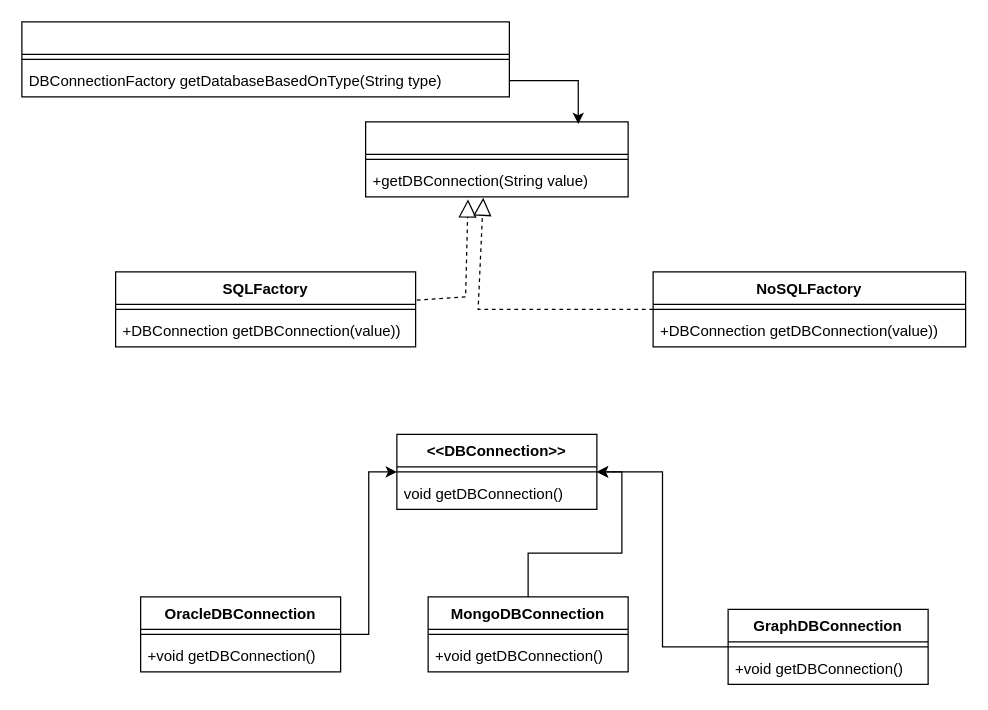
Some shapes in this 988 by 710 pixel diagram are drawn without their labels. Each missing label, with the box of its shape:
<<DBConnectionFactory>>: (364, 121, 628, 197)
DataBaseType: (21, 21, 509, 97)
